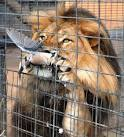lion: (21, 9, 117, 137)
